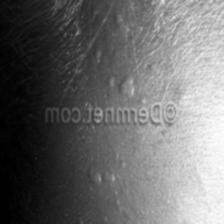Toxin: (122, 73, 136, 96), (89, 166, 103, 186)
